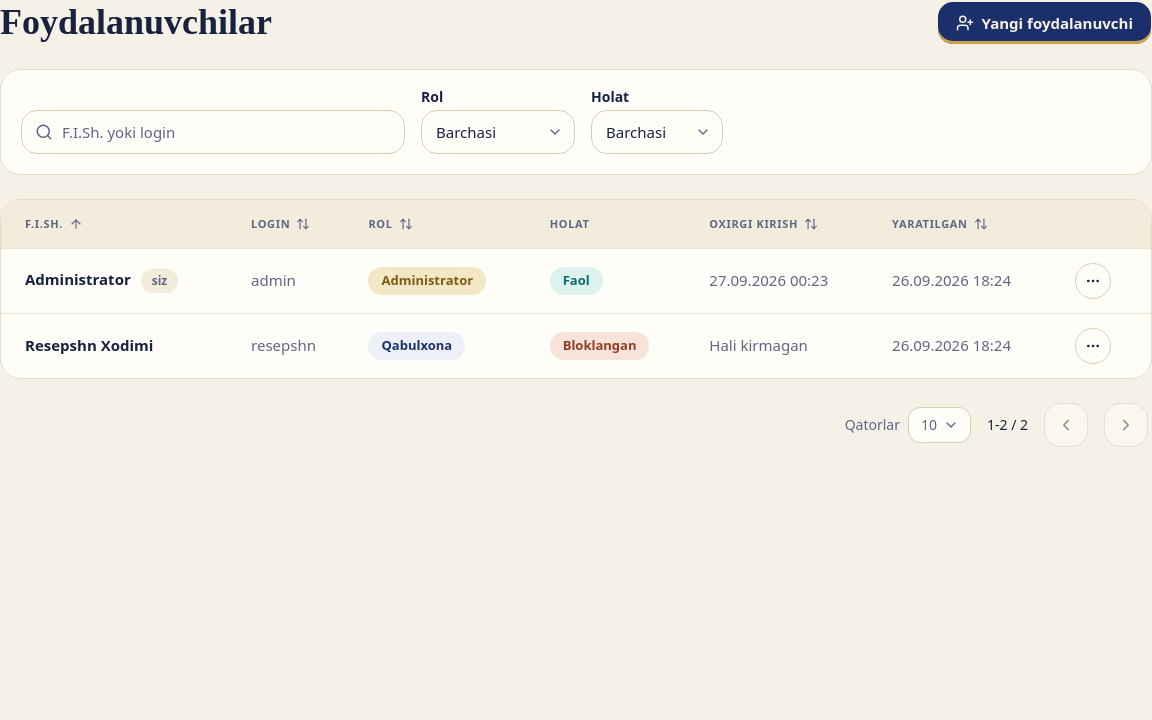
Scenario: UsersPage › should hide role and activity controls when admins edit themselves
The image size is (1152, 720).
Expected: the text "Resepshn Xodimi" is shown, [25, 335, 153, 355]
Click the button named "Amallar: Administrator" at point(1093, 280), box [1075, 262, 1111, 298]
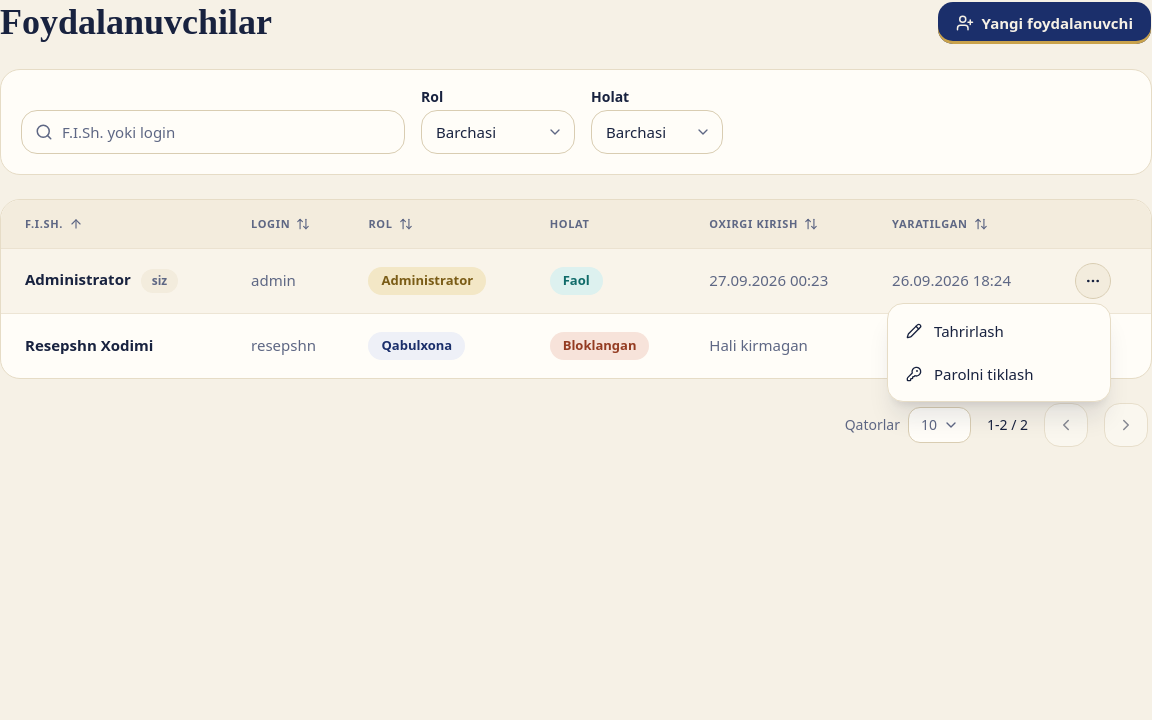
Click the menu item "Tahrirlash" at point(955, 331), box [906, 321, 1004, 341]
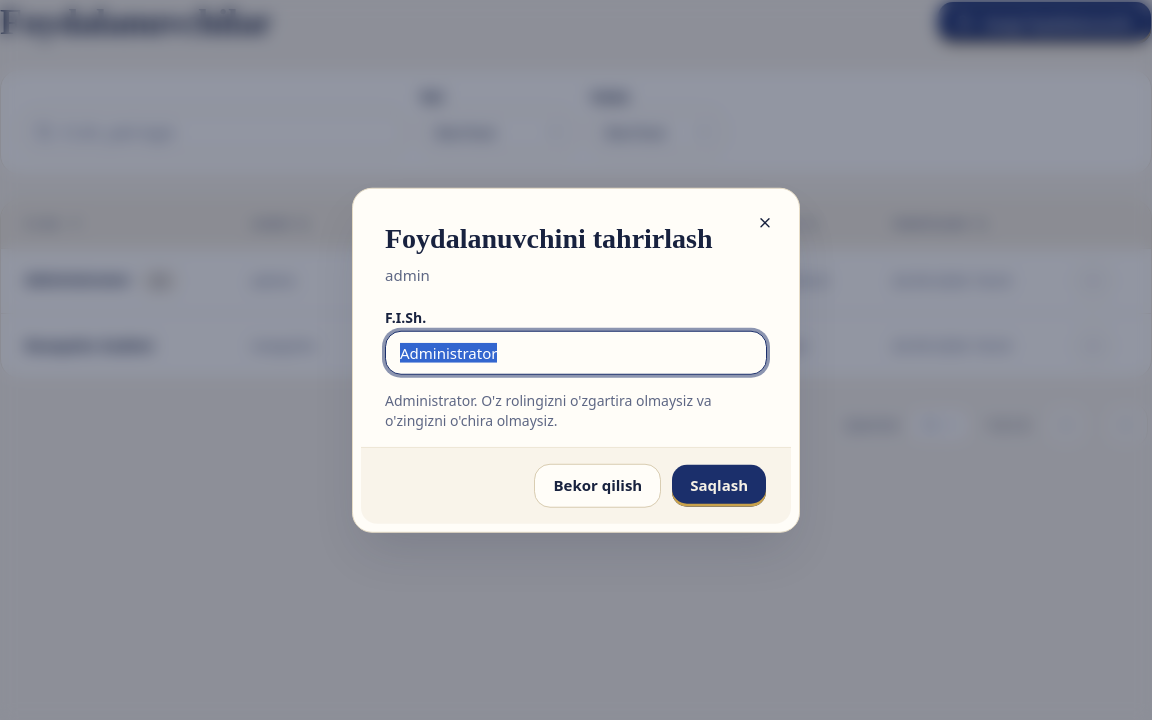
Result: the text "O'z rolingizni o'zgartira olmaysiz" is shown at [385, 390, 712, 429]
